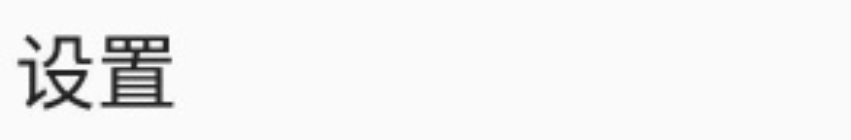TextView: (1, 1, 850, 139)
